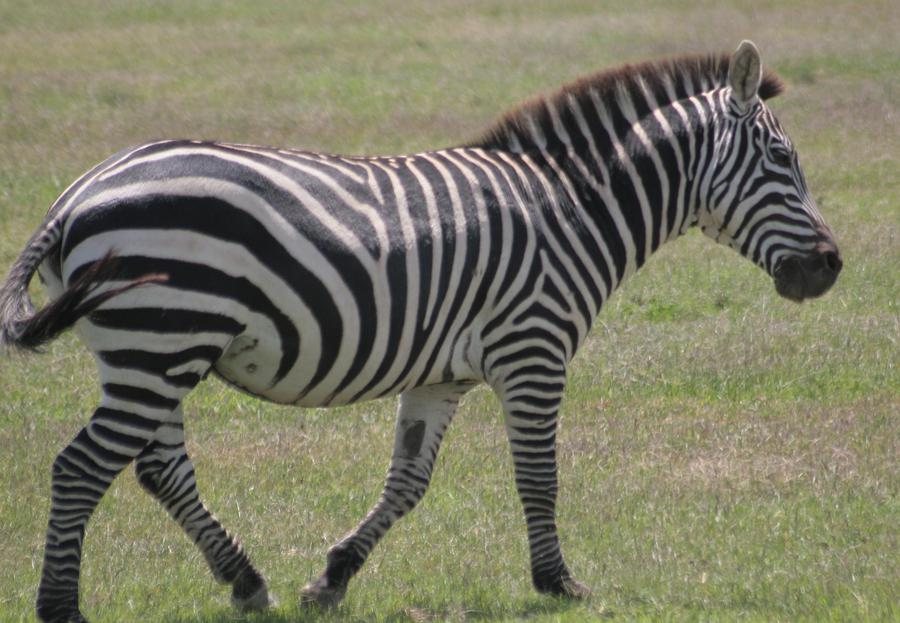zebra_plains: (84, 133, 585, 402)
